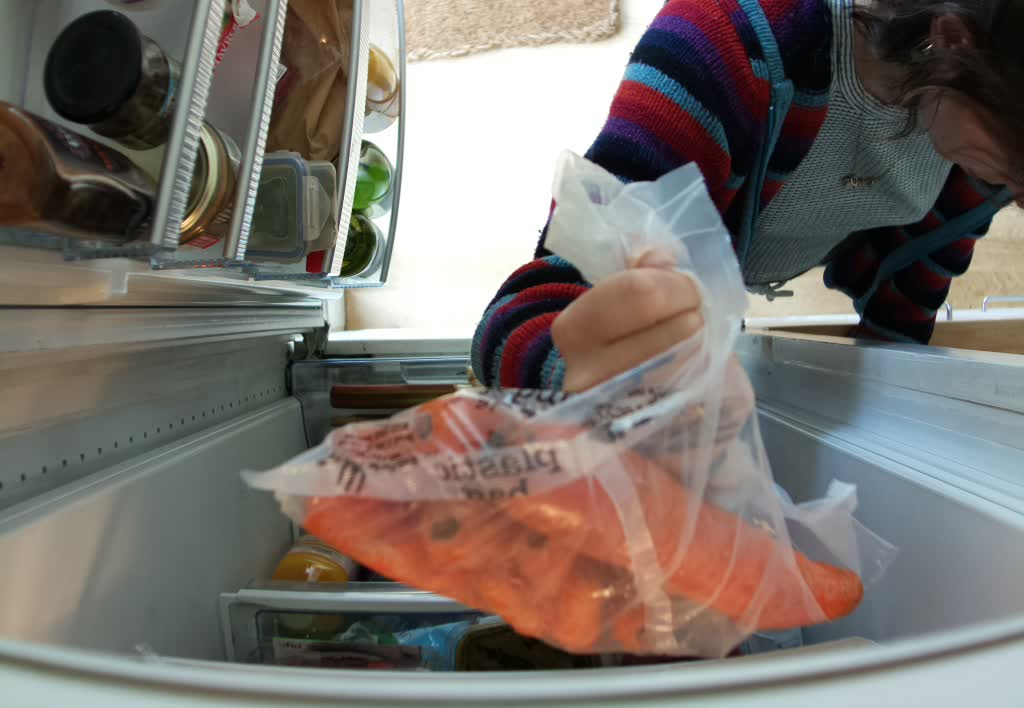carrot: (294, 398, 863, 654)
